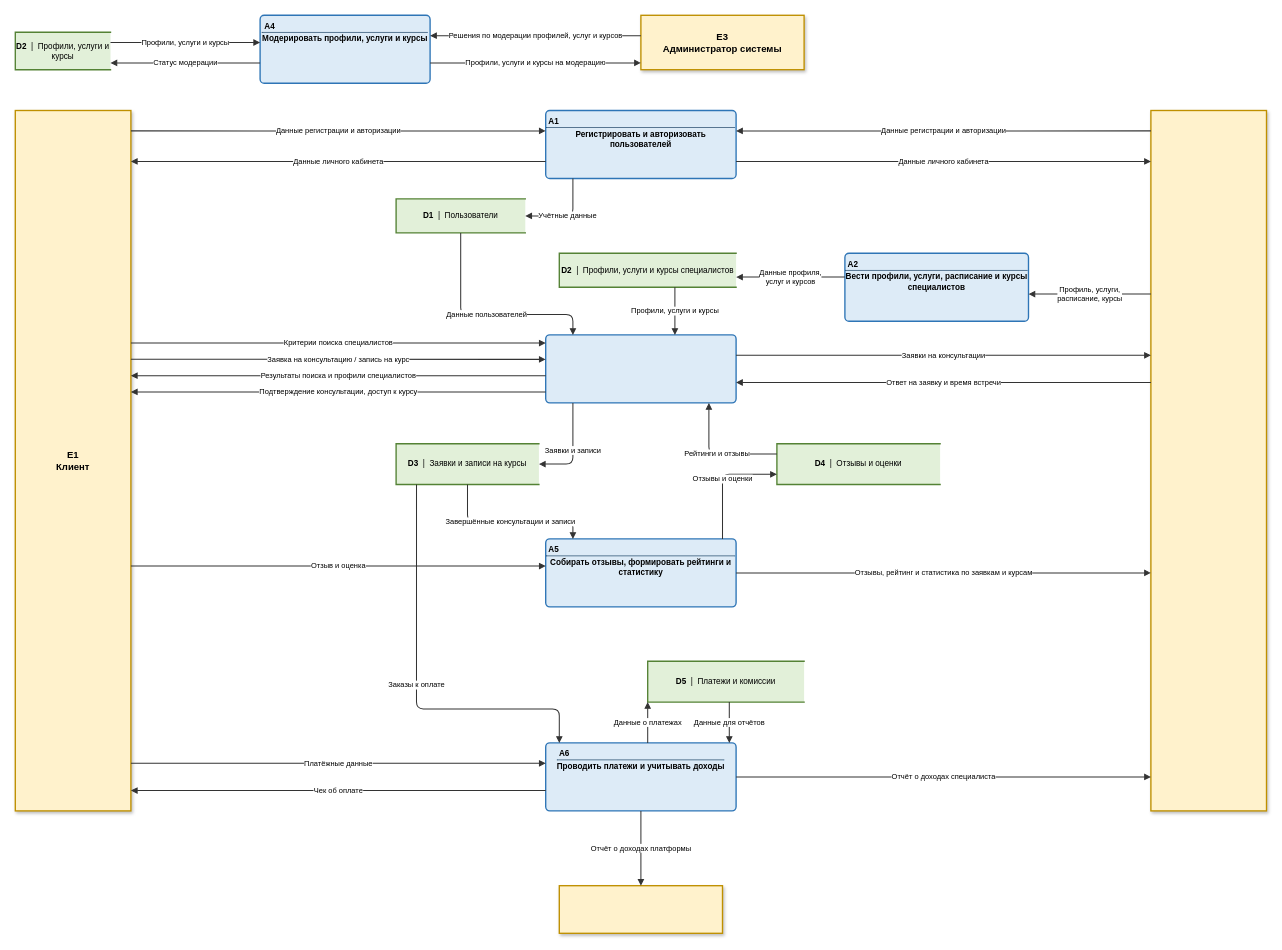
Image size: 1282x950. Some labels were removed from this diagram. Each missing label, with the centre of its shape:
"A3 Подбирать специалистов и оформлять заказы клиентов" goes at point (640, 368).
"E2 Специалист" goes at point (1209, 461).
"E4 Владелец платформы" goes at point (641, 910).
